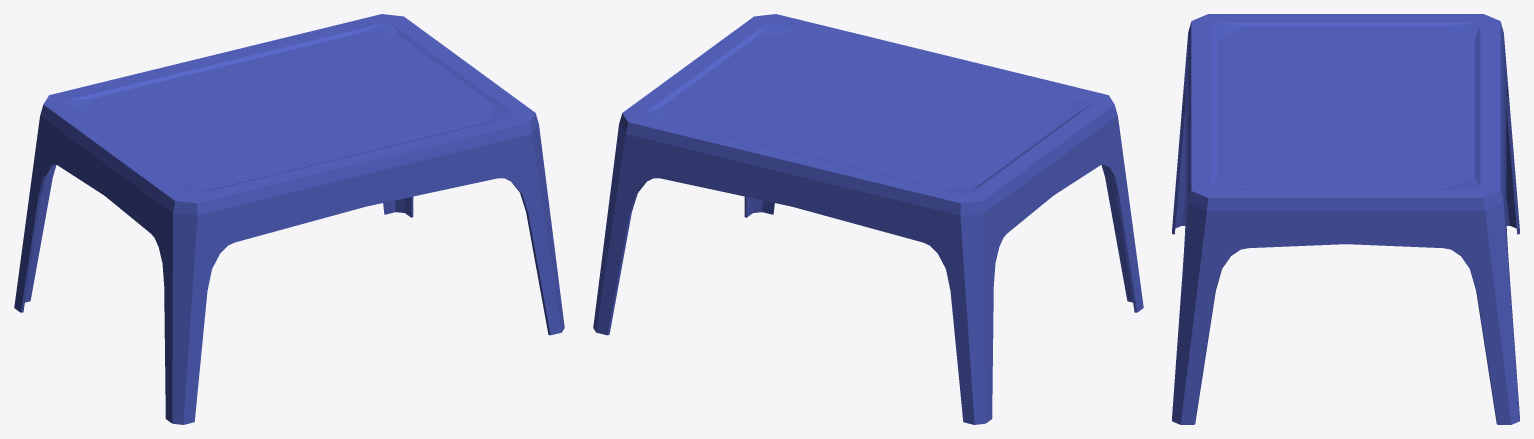
The model's file is SM_Furniture_TableLow_Rectangular_Blue_01.glb.
3 views of the same model, side by side, from view 1: azimuth 30°, elevation 25°; view 2: azimuth 150°, elevation 25°; view 3: azimuth 270°, elevation 25° (orthographic). The views are drawn at different scales.
Visible parts, largest first — view 1: SM_Furniture_TableLow_Rectangular_Blue_01; view 2: SM_Furniture_TableLow_Rectangular_Blue_01; view 3: SM_Furniture_TableLow_Rectangular_Blue_01.
Part boxes in pixels (x1,y1,x2,y2): SM_Furniture_TableLow_Rectangular_Blue_01: (14,14,564,424); SM_Furniture_TableLow_Rectangular_Blue_01: (593,14,1143,424); SM_Furniture_TableLow_Rectangular_Blue_01: (1172,14,1519,424).
Size of the model in its own units: 0.8832 by 0.45 by 0.648.
Materials: 1 (1 with a texture image).
